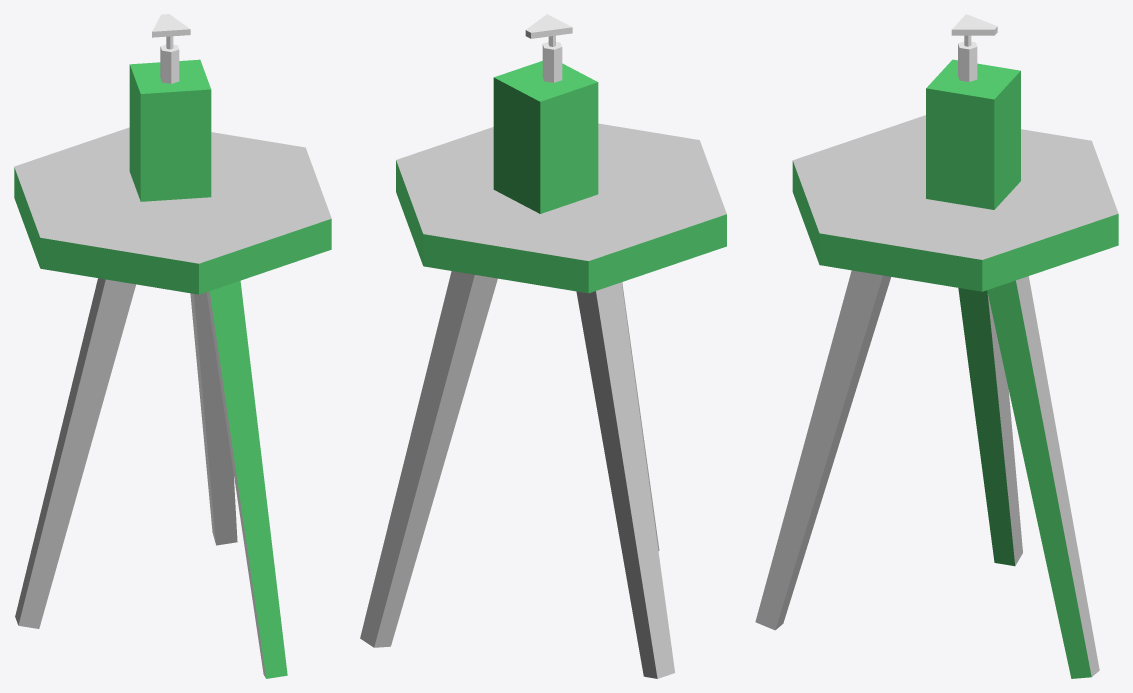
Rendered from y_tabure.obj.
The picture shows the model from 3 angles, left to right: view 1: azimuth 30°, elevation 25°; view 2: azimuth 150°, elevation 25°; view 3: azimuth 270°, elevation 25°; orthographic projection. The views are drawn at different scales.
Parts seen in each view (by area): view 1: chair.014_m_beyaz, chair.014_m_yeşil, chair.014_m_white; view 2: chair.014_m_beyaz, chair.014_m_yeşil, chair.014_m_white; view 3: chair.014_m_beyaz, chair.014_m_yeşil, chair.014_m_white.
Part boxes in pixels (<box>): chair.014_m_beyaz: <box>14,127,331,678</box>; chair.014_m_yeşil: <box>14,59,331,678</box>; chair.014_m_white: <box>152,14,190,83</box>; chair.014_m_beyaz: <box>360,123,726,678</box>; chair.014_m_yeşil: <box>396,61,726,293</box>; chair.014_m_white: <box>525,14,572,82</box>; chair.014_m_beyaz: <box>755,115,1118,676</box>; chair.014_m_yeşil: <box>792,59,1118,678</box>; chair.014_m_white: <box>951,14,997,81</box>.
Bounding box in the file's own units: 7.5 × 14.33 × 7.88.
